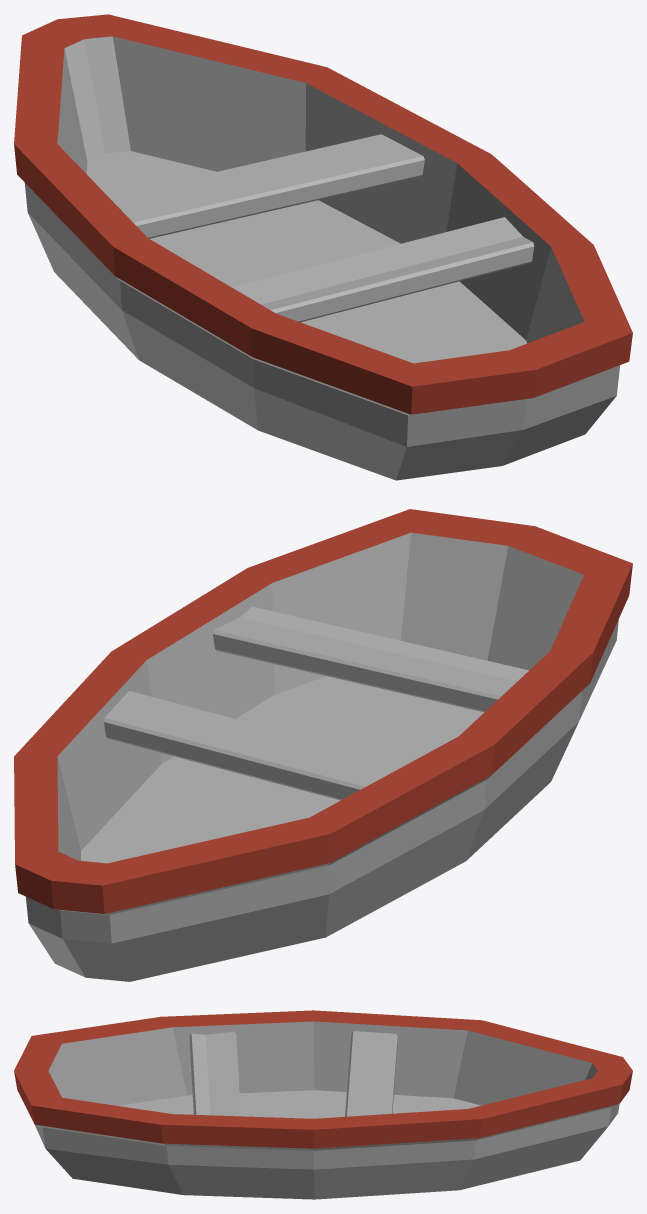
The model's file is barcoSimples (1).fbx.
3 renders of one model, top to bottom at view 1: azimuth 30°, elevation 25°; view 2: azimuth 150°, elevation 25°; view 3: azimuth 270°, elevation 25°, orthographic. The views are drawn at different scales.
Visible parts, largest first — view 1: Plane.001, Cube.001, Cube; view 2: Plane.001, Cube, Cube.001; view 3: Plane.001, Cube.001, Cube.
Boxes of the visible parts, bbox=[...] form: Plane.001: bbox=[14, 14, 632, 480]; Cube.001: bbox=[108, 134, 424, 238]; Cube: bbox=[232, 217, 534, 322]; Plane.001: bbox=[14, 509, 632, 981]; Cube: bbox=[213, 606, 528, 712]; Cube.001: bbox=[104, 691, 406, 800]; Plane.001: bbox=[14, 1010, 632, 1199]; Cube.001: bbox=[345, 1031, 397, 1116]; Cube: bbox=[189, 1031, 240, 1116].
Size of the model in its own units: 96.95 by 29.59 by 212.
